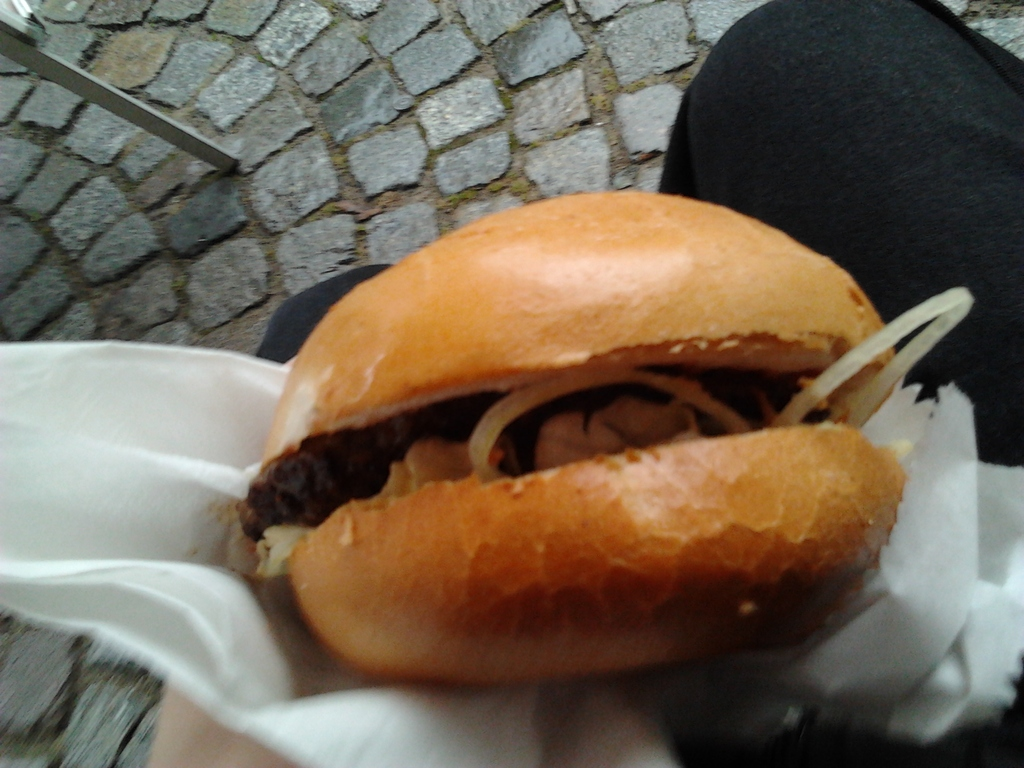Hamburger: (223, 190, 972, 686)
